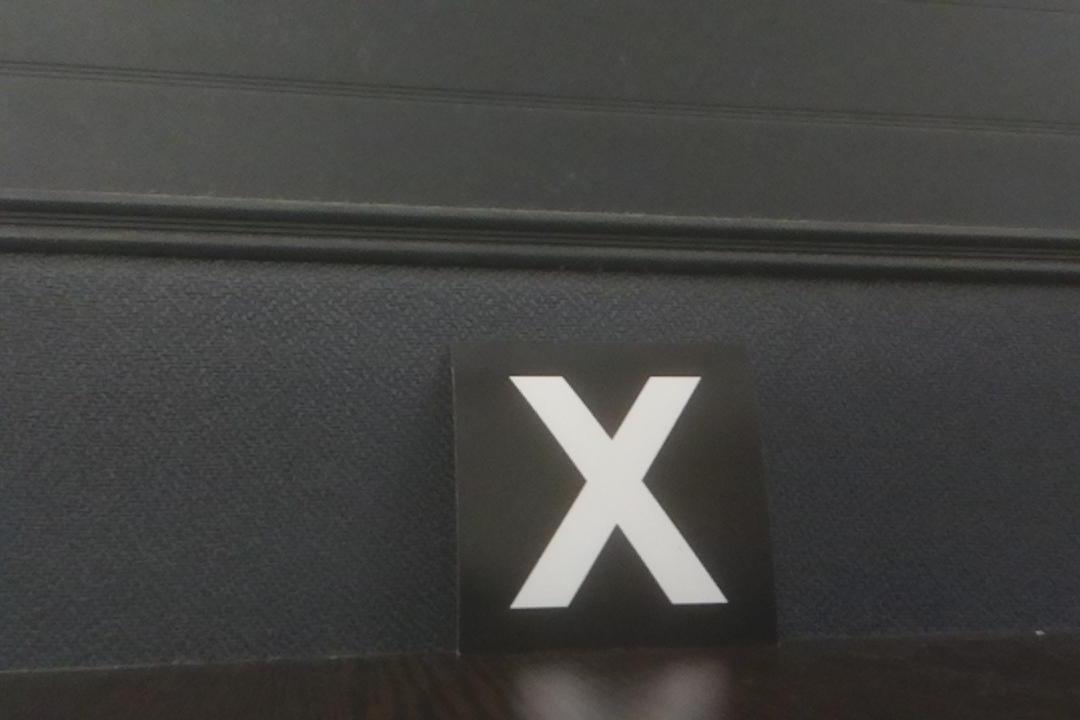alphabet_x: (451, 341, 770, 649)
